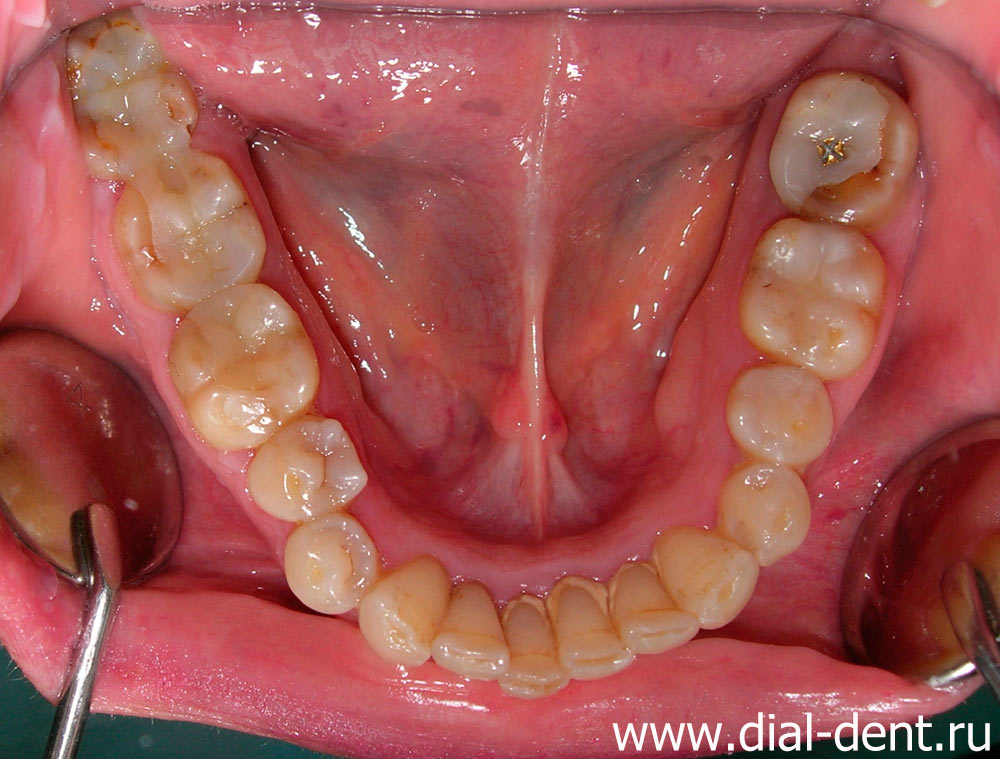LL1BC_healthy: (723, 465, 812, 569)
LL1M_healthy: (751, 220, 888, 373)
LL2BC_healthy: (729, 362, 838, 469)
LL2M_decay: (775, 70, 920, 223)
LLCI_decay: (553, 578, 634, 676)
LLC_healthy: (657, 521, 762, 630)
LLLI_decay: (612, 564, 698, 656)
LR1BC_decay: (289, 516, 371, 614)
LR1M_decay: (177, 290, 320, 437)
LR2BC_decay: (252, 427, 366, 521)
LR2M_decay: (108, 159, 270, 299)
LR3M_decay: (72, 40, 203, 155)
LRCI_decay: (505, 598, 566, 703)
LRC_decay: (374, 561, 444, 670)
LRLI_decay: (443, 579, 509, 679)
